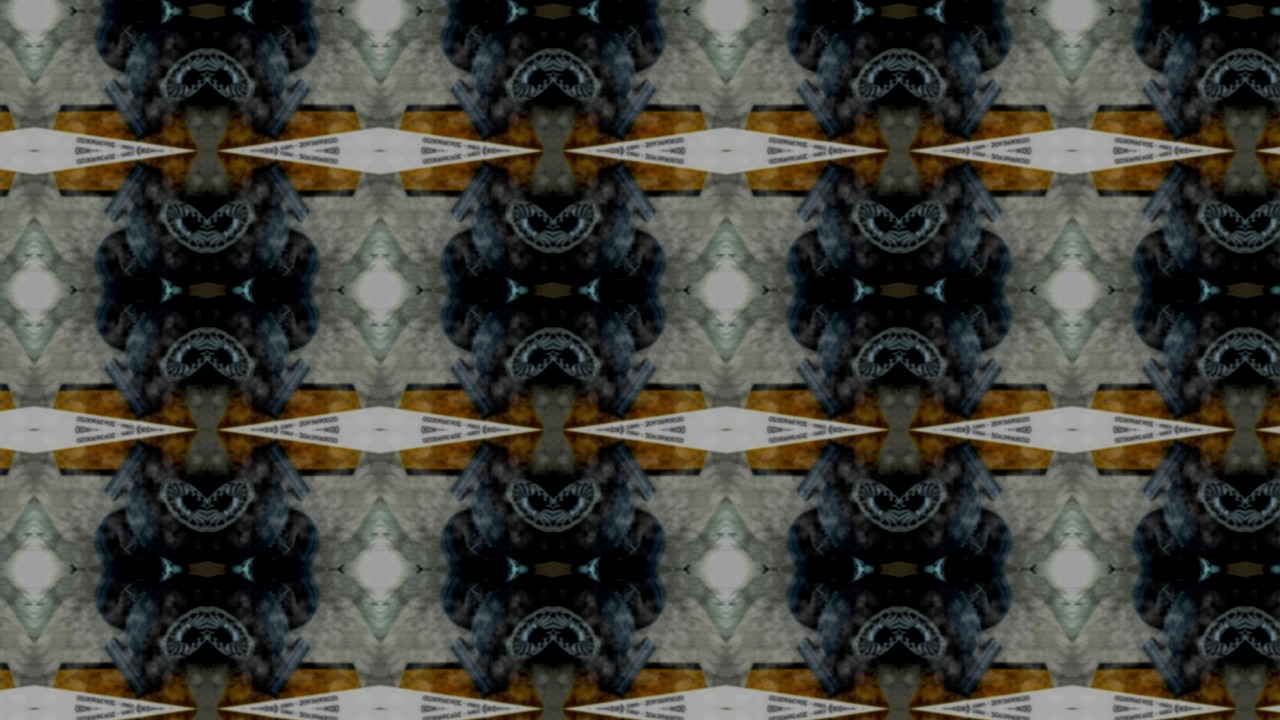chock: (95, 76, 162, 143), (250, 76, 317, 143), (442, 76, 509, 143), (597, 76, 664, 143), (789, 76, 856, 143), (944, 76, 1011, 143), (1136, 76, 1203, 143), (95, 157, 162, 224), (250, 157, 317, 224), (442, 157, 509, 224), (597, 157, 664, 224), (789, 157, 856, 224), (944, 157, 1011, 224), (1136, 157, 1203, 224), (95, 356, 162, 423), (250, 356, 317, 423), (442, 356, 509, 423), (597, 356, 664, 423), (789, 356, 856, 423), (944, 356, 1011, 423), (1136, 356, 1203, 423), (95, 437, 162, 504), (250, 437, 317, 504), (442, 437, 509, 504), (597, 437, 664, 504), (789, 437, 856, 504), (944, 437, 1011, 504), (1136, 437, 1203, 504), (95, 636, 162, 703), (250, 636, 317, 703), (442, 636, 509, 703), (597, 636, 664, 703), (789, 636, 856, 703), (944, 636, 1011, 703), (1136, 636, 1203, 703), (181, 79, 206, 113), (206, 79, 231, 113), (528, 79, 553, 113), (553, 79, 578, 113), (875, 79, 900, 113), (900, 79, 925, 113), (1222, 79, 1247, 113), (1247, 79, 1272, 113), (181, 187, 206, 221), (206, 187, 231, 221), (528, 187, 553, 221), (553, 187, 578, 221), (875, 187, 900, 221), (900, 187, 925, 221), (1222, 187, 1247, 221), (1247, 187, 1272, 221), (181, 359, 206, 393), (206, 359, 231, 393), (528, 359, 553, 393), (553, 359, 578, 393), (875, 359, 900, 393), (900, 359, 925, 393), (1222, 359, 1247, 393), (1247, 359, 1272, 393), (181, 467, 206, 501), (206, 467, 231, 501), (528, 467, 553, 501), (553, 467, 578, 501), (875, 467, 900, 501), (900, 467, 925, 501), (1222, 467, 1247, 501), (1247, 467, 1272, 501), (181, 639, 206, 673), (206, 639, 231, 673), (528, 639, 553, 673), (553, 639, 578, 673), (875, 639, 900, 673), (900, 639, 925, 673), (1222, 639, 1247, 673), (1247, 639, 1272, 673)
wheel: (123, 10, 206, 121), (206, 10, 289, 121), (470, 10, 553, 121), (553, 10, 636, 121), (817, 10, 900, 121), (900, 10, 983, 121), (1164, 10, 1247, 121), (123, 179, 206, 290), (206, 179, 289, 290), (470, 179, 553, 290), (553, 179, 636, 290), (817, 179, 900, 290), (900, 179, 983, 290), (1164, 179, 1247, 290), (123, 290, 206, 401), (206, 290, 289, 401), (470, 290, 553, 401), (553, 290, 636, 401), (817, 290, 900, 401), (900, 290, 983, 401), (1164, 290, 1247, 401), (123, 459, 206, 570), (206, 459, 289, 570), (470, 459, 553, 570), (553, 459, 636, 570), (817, 459, 900, 570), (900, 459, 983, 570), (1164, 459, 1247, 570), (123, 570, 206, 681), (206, 570, 289, 681), (470, 570, 553, 681), (553, 570, 636, 681), (817, 570, 900, 681), (900, 570, 983, 681), (1164, 570, 1247, 681), (89, 10, 165, 76), (247, 10, 323, 76), (436, 10, 512, 76), (594, 10, 670, 76), (783, 10, 859, 76), (941, 10, 1017, 76), (1130, 10, 1206, 76), (89, 224, 165, 290), (247, 224, 323, 290), (436, 224, 512, 290), (594, 224, 670, 290), (783, 224, 859, 290), (941, 224, 1017, 290), (1130, 224, 1206, 290), (89, 290, 165, 356), (247, 290, 323, 356), (436, 290, 512, 356), (594, 290, 670, 356), (783, 290, 859, 356), (941, 290, 1017, 356), (1130, 290, 1206, 356), (89, 504, 165, 570), (247, 504, 323, 570), (436, 504, 512, 570), (594, 504, 670, 570), (783, 504, 859, 570), (941, 504, 1017, 570), (1130, 504, 1206, 570), (89, 570, 165, 636), (247, 570, 323, 636), (436, 570, 512, 636), (594, 570, 670, 636), (783, 570, 859, 636), (941, 570, 1017, 636), (1130, 570, 1206, 636), (1247, 10, 1280, 121), (1247, 179, 1280, 290), (1247, 290, 1280, 401), (1247, 459, 1280, 570), (1247, 570, 1280, 681), (89, 0, 165, 10), (247, 0, 323, 10), (436, 0, 512, 10), (594, 0, 670, 10), (783, 0, 859, 10), (941, 0, 1017, 10), (1130, 0, 1206, 10)
